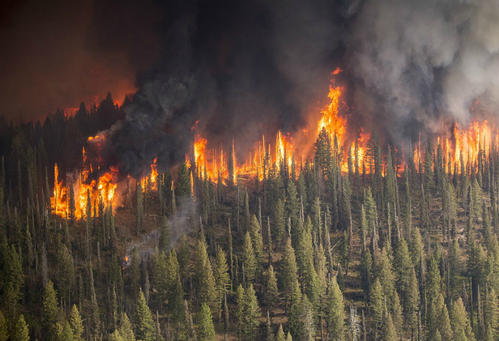fire: (53, 178, 119, 216), (341, 137, 377, 173), (193, 140, 209, 178), (318, 107, 330, 131), (277, 133, 285, 160)
